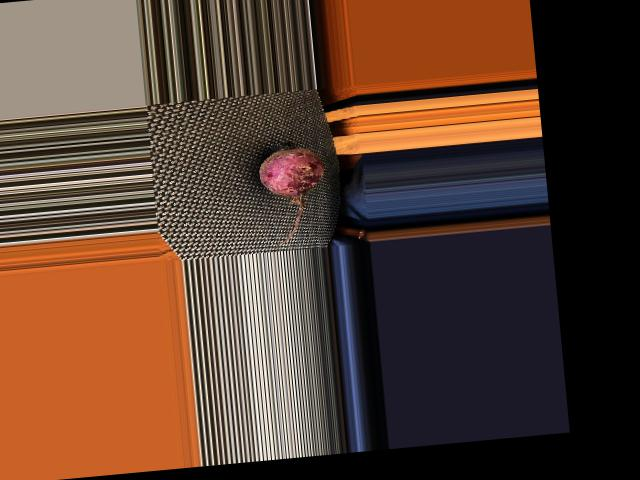beet: (257, 137, 331, 244)
